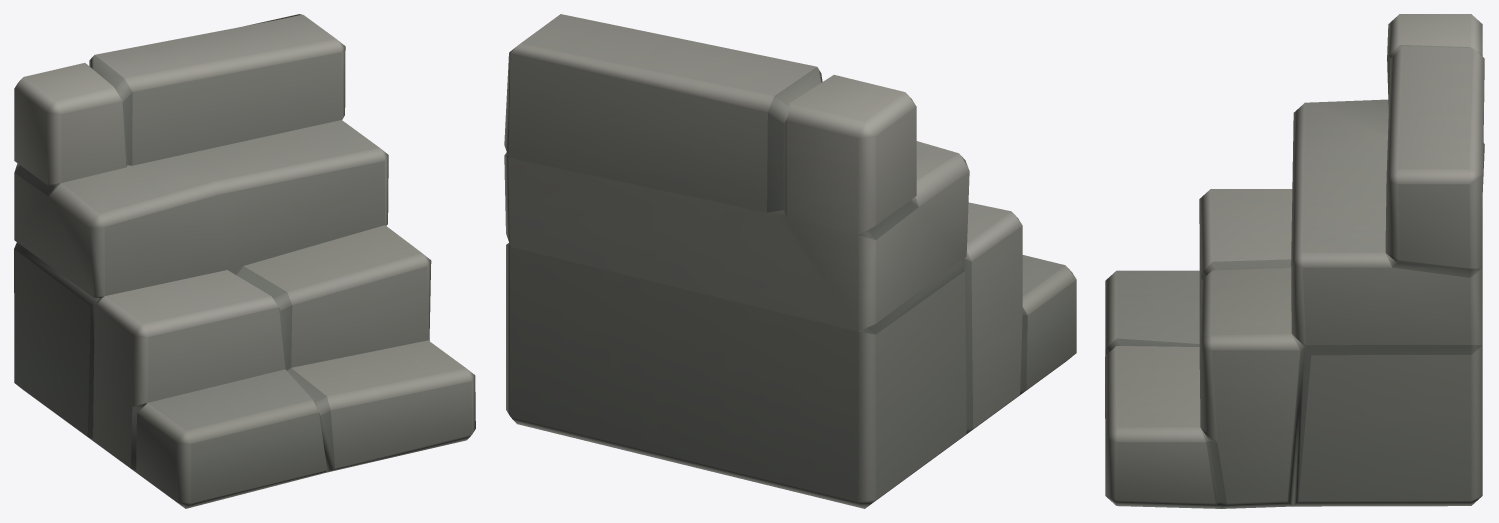
Rendered from stairs_shade_1.fbx.
3 renders of one model, left to right at view 1: azimuth 30°, elevation 25°; view 2: azimuth 150°, elevation 25°; view 3: azimuth 270°, elevation 25°, orthographic. The views are drawn at different scales.
Visible parts, largest first — view 1: stairs_shade_1; view 2: stairs_shade_1; view 3: stairs_shade_1.
Boxes of the visible parts, x1,y1,x2,y2 form: stairs_shade_1: (14,14,475,508); stairs_shade_1: (504,14,1076,508); stairs_shade_1: (1105,14,1484,508).
Size of the model in its own units: 101 by 102 by 101.
